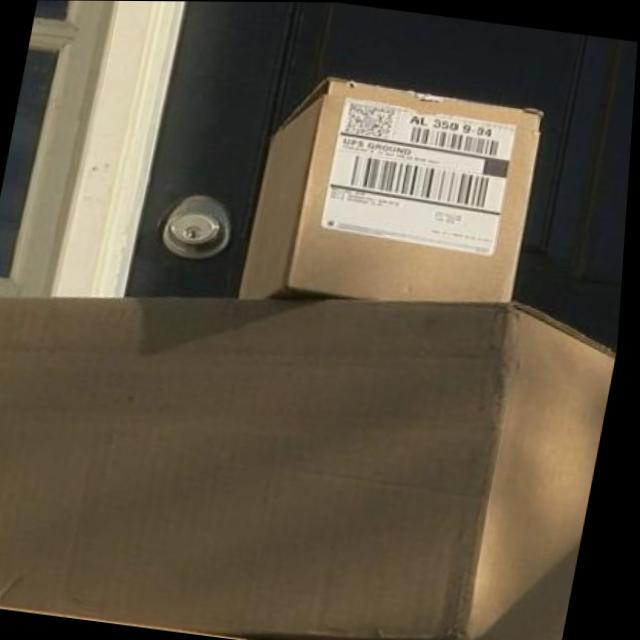box: (0, 254, 627, 640), (227, 63, 567, 343)
